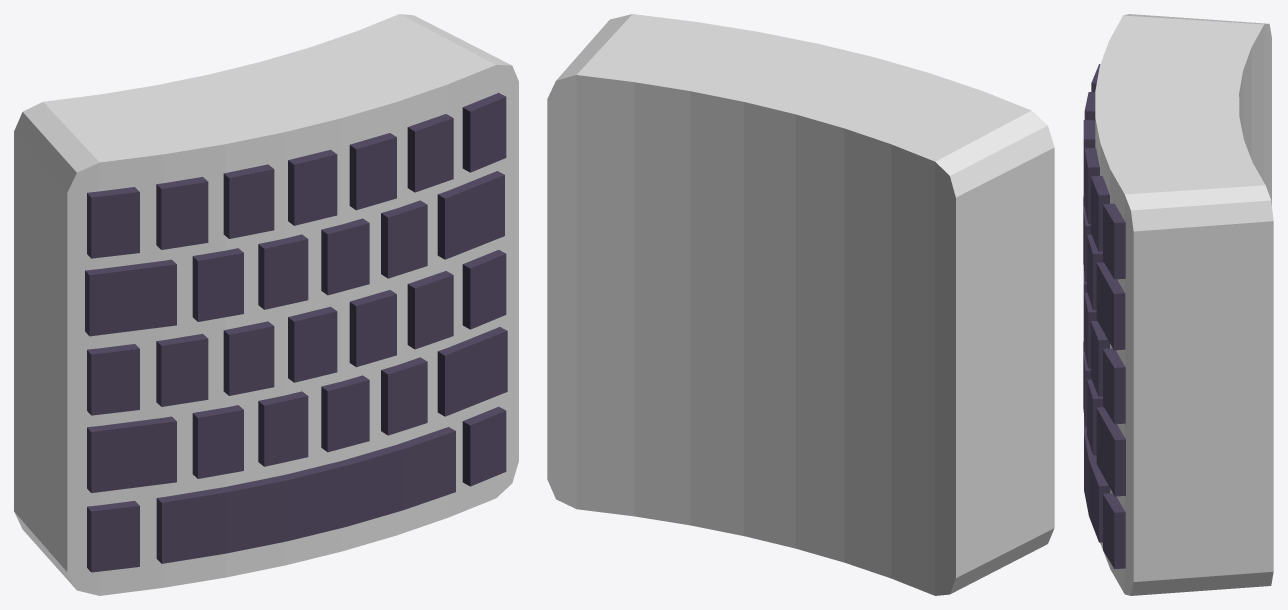
File: Keyboard_Inner.fbx
3 views of the same model, side by side, from view 1: azimuth 30°, elevation 25°; view 2: azimuth 150°, elevation 25°; view 3: azimuth 270°, elevation 25° (orthographic). The views are drawn at different scales.
Visible parts, largest first — view 1: Keyboard_Inner; view 2: Keyboard_Inner; view 3: Keyboard_Inner.
Boxes of the visible parts, <box> form: Keyboard_Inner: <box>14,14,518,595</box>; Keyboard_Inner: <box>547,14,1054,595</box>; Keyboard_Inner: <box>1083,14,1273,595</box>.
Size of the model in its own units: 24.78 by 22.68 by 9.78.
